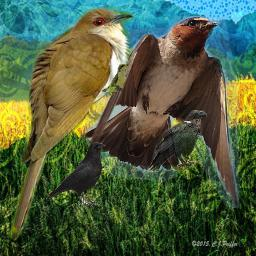Crow: (46, 141, 106, 207), (147, 110, 207, 171)
Cuckoo: (8, 7, 135, 241), (102, 63, 130, 96)
Swallow: (85, 16, 239, 208)
